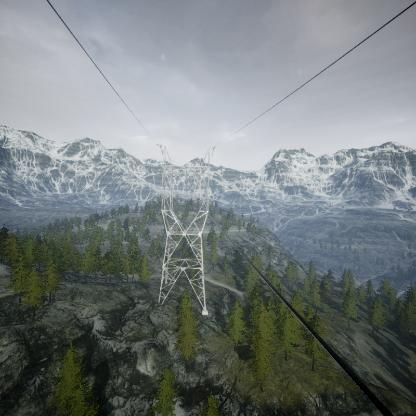tower: (149, 140, 219, 322)
